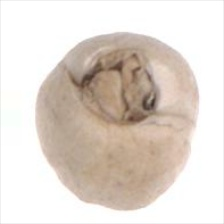L3: (72, 46, 161, 128)
L4: (35, 31, 199, 211)
